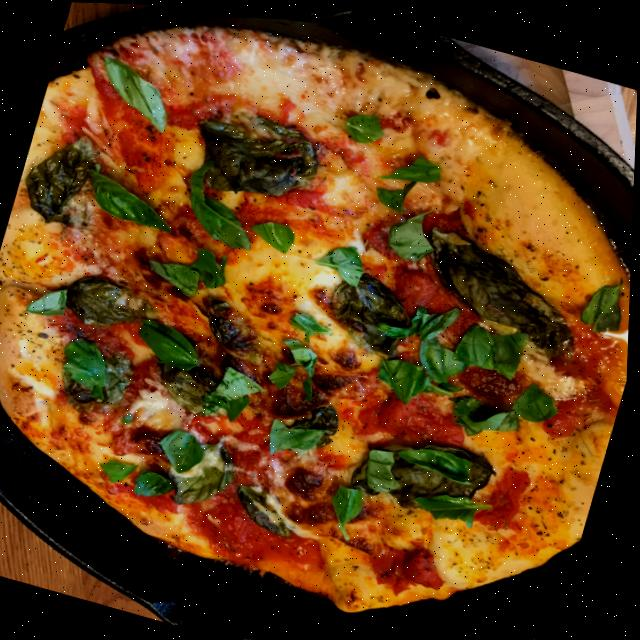basil: (407, 222, 596, 357), (359, 284, 530, 426), (349, 417, 506, 527), (183, 98, 328, 211), (445, 359, 564, 452), (321, 262, 422, 356), (175, 155, 271, 250), (16, 123, 101, 229), (51, 331, 141, 420), (88, 54, 179, 130), (165, 429, 245, 514), (79, 167, 182, 231), (266, 388, 345, 465), (191, 293, 277, 363), (201, 360, 270, 425), (132, 314, 209, 371), (56, 332, 120, 398), (413, 479, 496, 528), (383, 200, 444, 261), (150, 358, 217, 413), (397, 436, 480, 480), (578, 266, 633, 332), (232, 483, 303, 534), (413, 329, 474, 385), (374, 351, 436, 404), (381, 143, 446, 190), (267, 414, 327, 463), (312, 235, 370, 284), (157, 425, 210, 476), (145, 253, 206, 296), (455, 317, 506, 367), (362, 443, 411, 494), (327, 480, 368, 538), (187, 245, 233, 289), (276, 333, 322, 376), (247, 213, 297, 252), (342, 105, 389, 145), (372, 169, 415, 210), (134, 466, 178, 501), (99, 454, 140, 486), (185, 360, 225, 391), (266, 356, 299, 389), (223, 387, 253, 422), (300, 373, 318, 397), (122, 409, 136, 424)
pizza: (0, 0, 640, 640)
